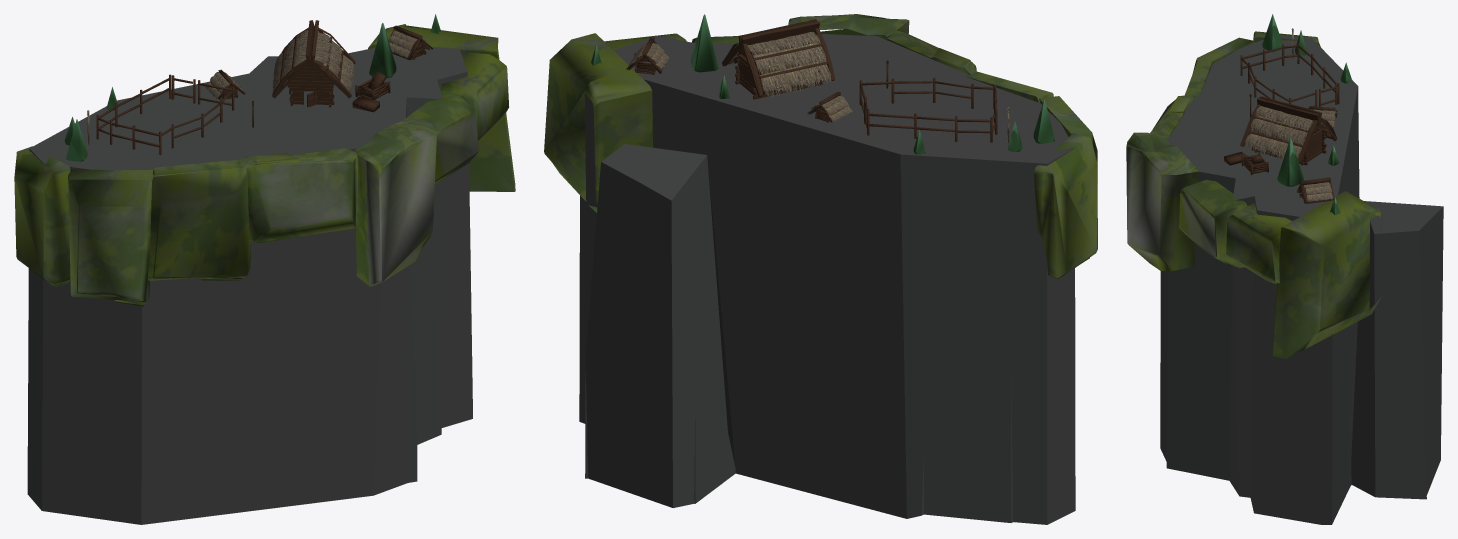
Rendered from farm.glb.
3 views of the same model, side by side, from view 1: azimuth 30°, elevation 25°; view 2: azimuth 150°, elevation 25°; view 3: azimuth 270°, elevation 25° (orthographic). The views are drawn at different scales.
Parts seen in each view (by area): view 1: islands_farm, cliffes_farm, farm; view 2: islands_farm, cliffes_farm, farm; view 3: islands_farm, cliffes_farm, farm.
Part boxes in pixels (x1=…): islands_farm: x1=27, y1=47, x2=472, y2=524; cliffes_farm: x1=14, y1=24, x2=515, y2=306; farm: x1=64, y1=14, x2=440, y2=161; islands_farm: x1=579, y1=29, x2=1075, y2=524; cliffes_farm: x1=544, y1=14, x2=1097, y2=278; farm: x1=591, y1=14, x2=1054, y2=154; islands_farm: x1=1160, y1=34, x2=1443, y2=524; cliffes_farm: x1=1126, y1=31, x2=1383, y2=358; farm: x1=1224, y1=14, x2=1351, y2=215.
Size of the model in its own units: 2.66 by 2.05 by 1.69.
Materials: 5 (3 with a texture image).
